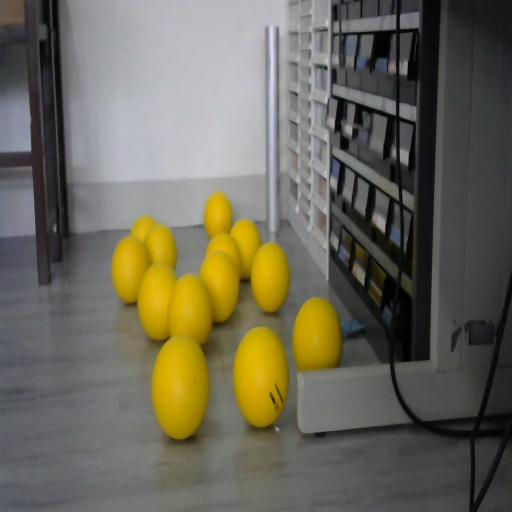FUEL: (152, 335, 209, 438), (233, 326, 289, 428), (292, 296, 342, 372), (166, 274, 212, 346), (137, 263, 177, 342), (250, 241, 292, 313), (111, 236, 149, 304), (230, 219, 262, 280), (204, 232, 242, 281), (144, 223, 178, 272), (204, 192, 234, 238), (130, 216, 158, 245)
